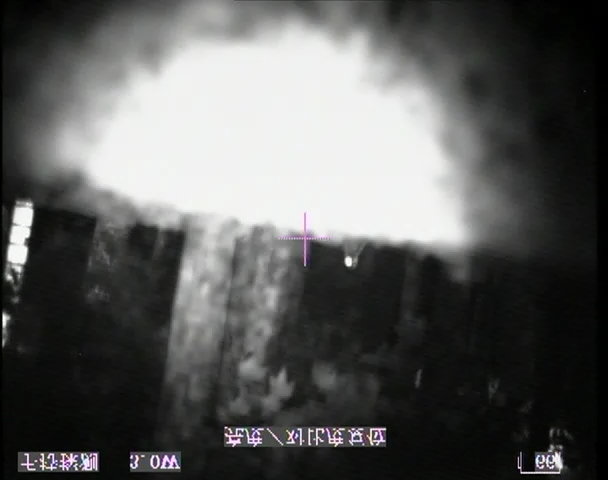my: (343, 255, 352, 266)
